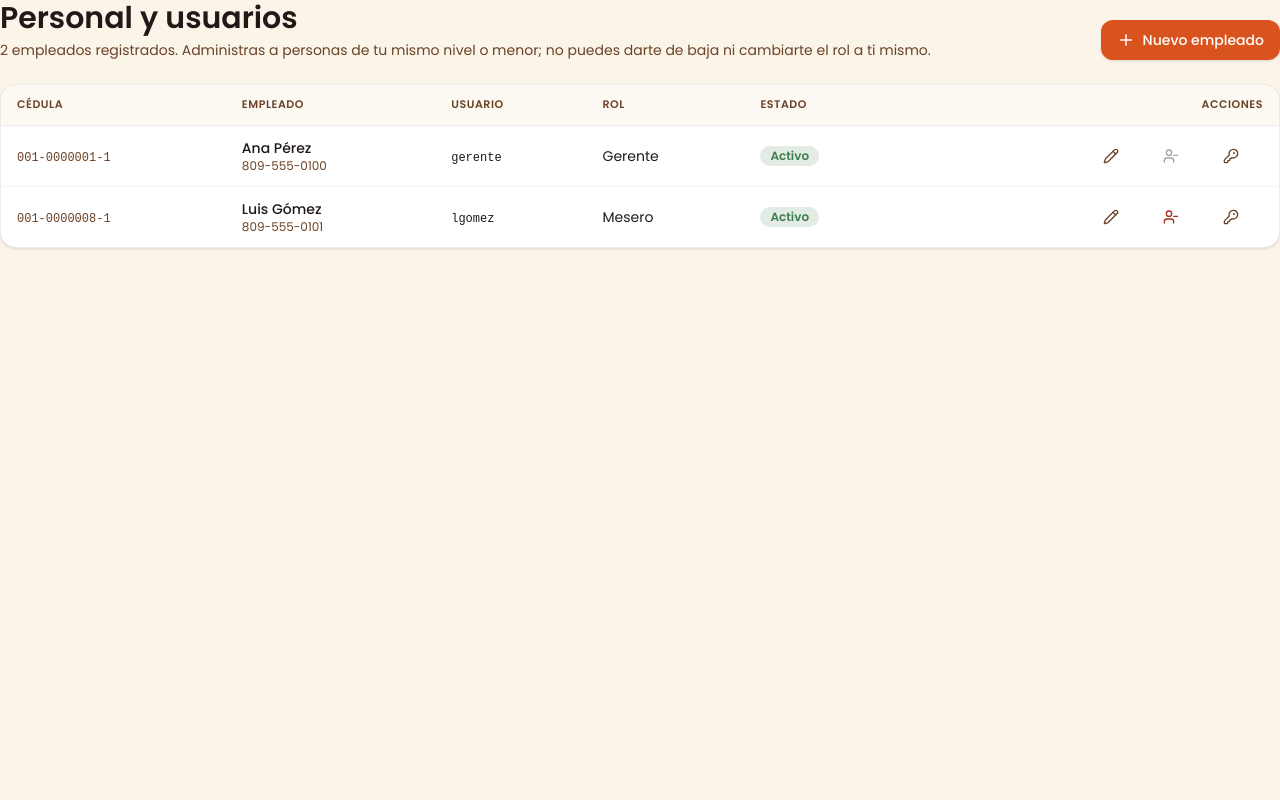
Test: Personal › da de baja y reactiva a la misma persona
Expected: the text "Luis Gómez" is shown, [242,199,322,219]
Click the button named "Dar de baja a Luis Gómez" at (1175, 217), box [1147,199,1203,235]
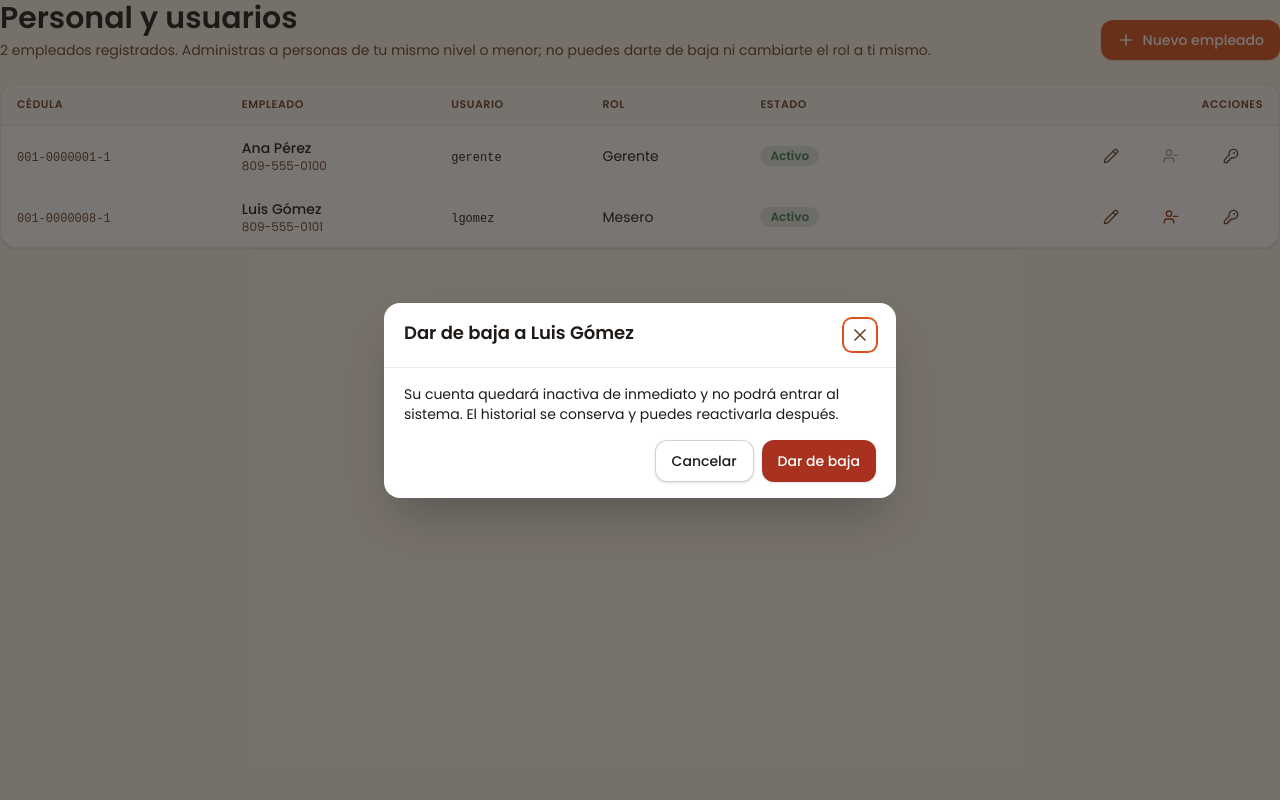
Result: the text "no podrá entrar" is shown at [404,384,839,424]
Click the button "Dar de baja" at (819, 460), box [762,440,876,482]
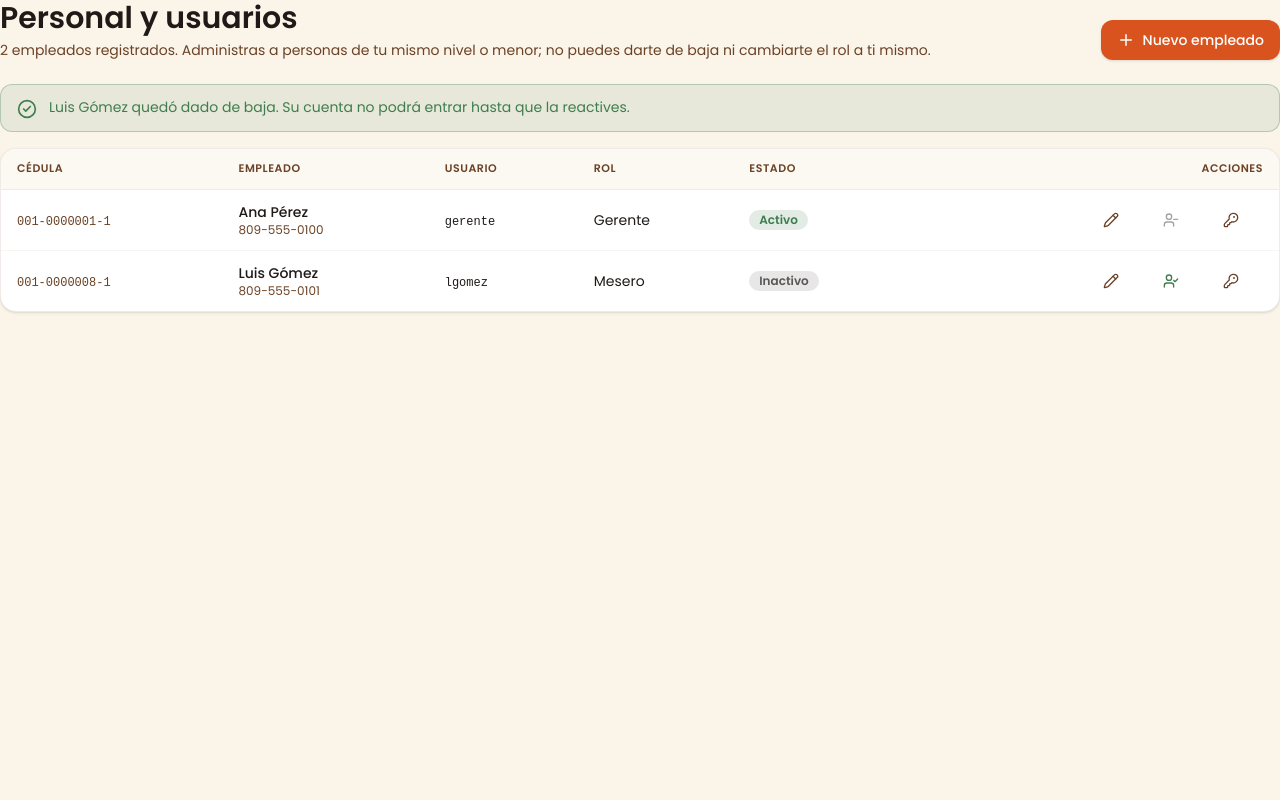
Result: the text "Luis Gómez quedó dado de baja" is shown at [49,97,630,117]
Result: the text "Inactivo" is shown at [749,271,819,291]
Click the button named "Reactivar a Luis Gómez" at (1175, 281), box [1147,263,1203,299]
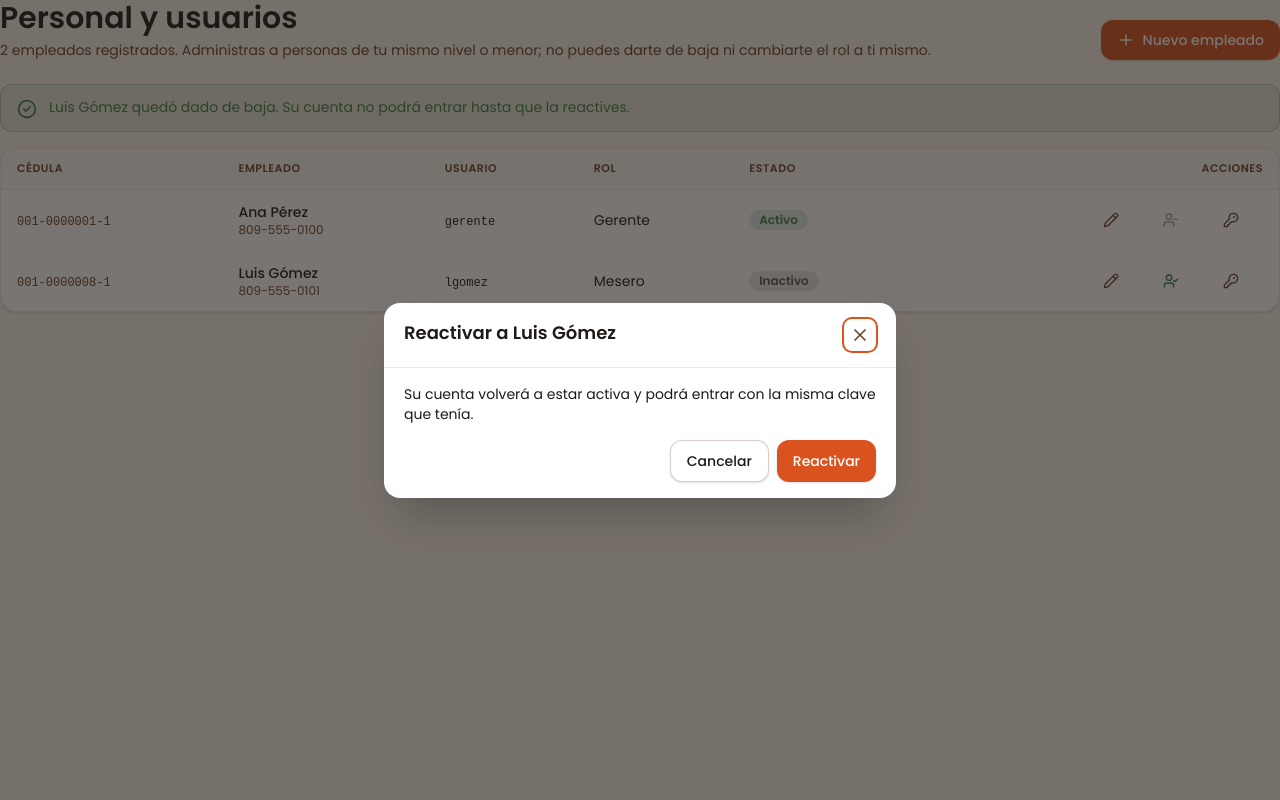
Click the button "Reactivar" at (826, 460), box [777,440,876,482]
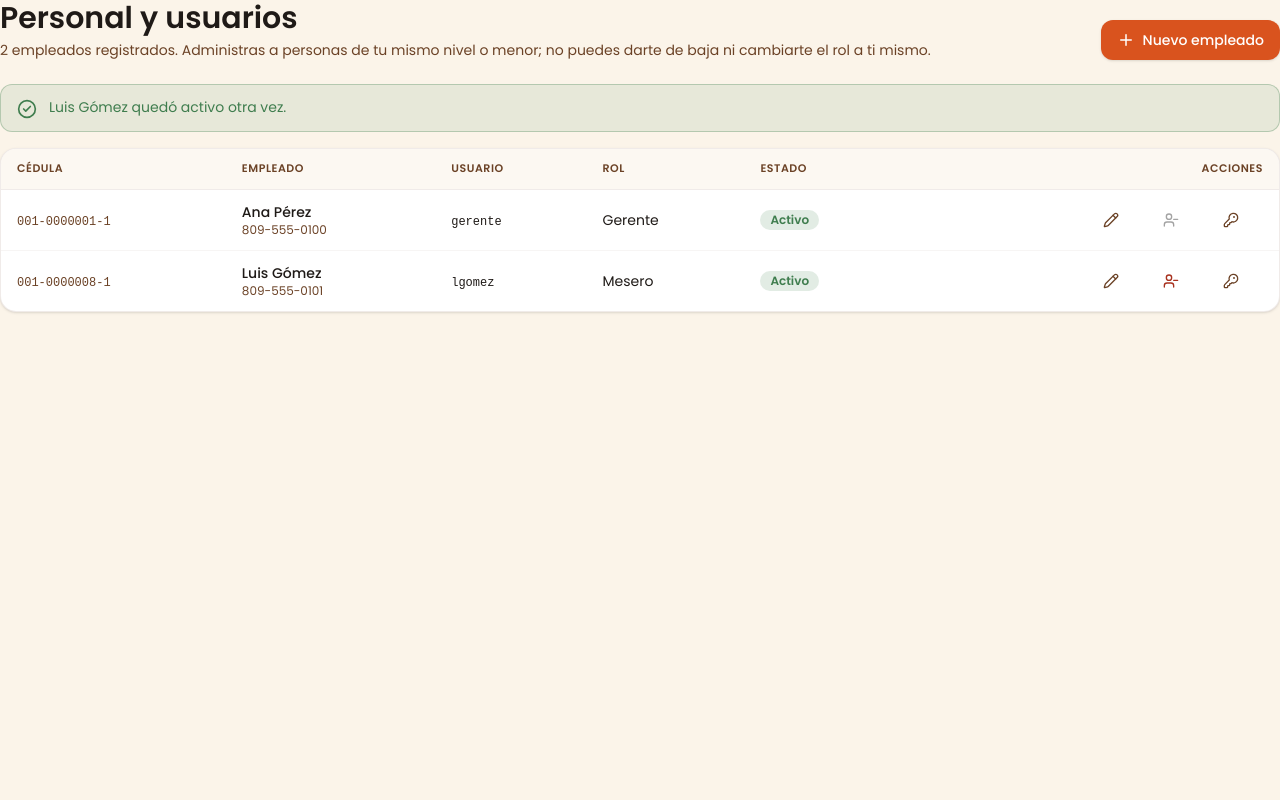
Expected: the text "Activo" is shown 2 times, [760,210,819,230]; [760,271,819,291]
Result: the text "Luis Gómez quedó activo otra vez." is shown at [49,97,286,117]
